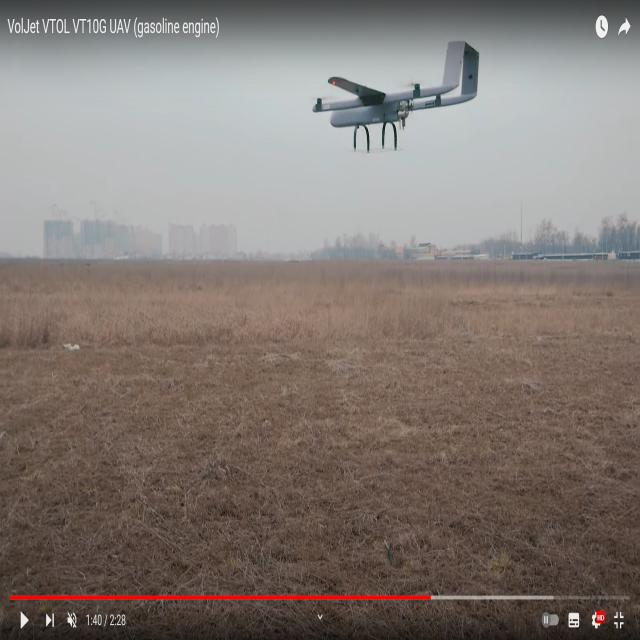iha: (304, 14, 476, 56)
